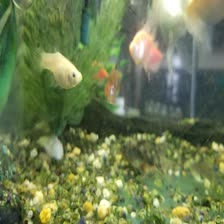Guppy: (29, 43, 84, 91)
Kiros: (113, 134, 169, 177)
Plano: (128, 18, 160, 65)
Transparente: (99, 62, 125, 104)
